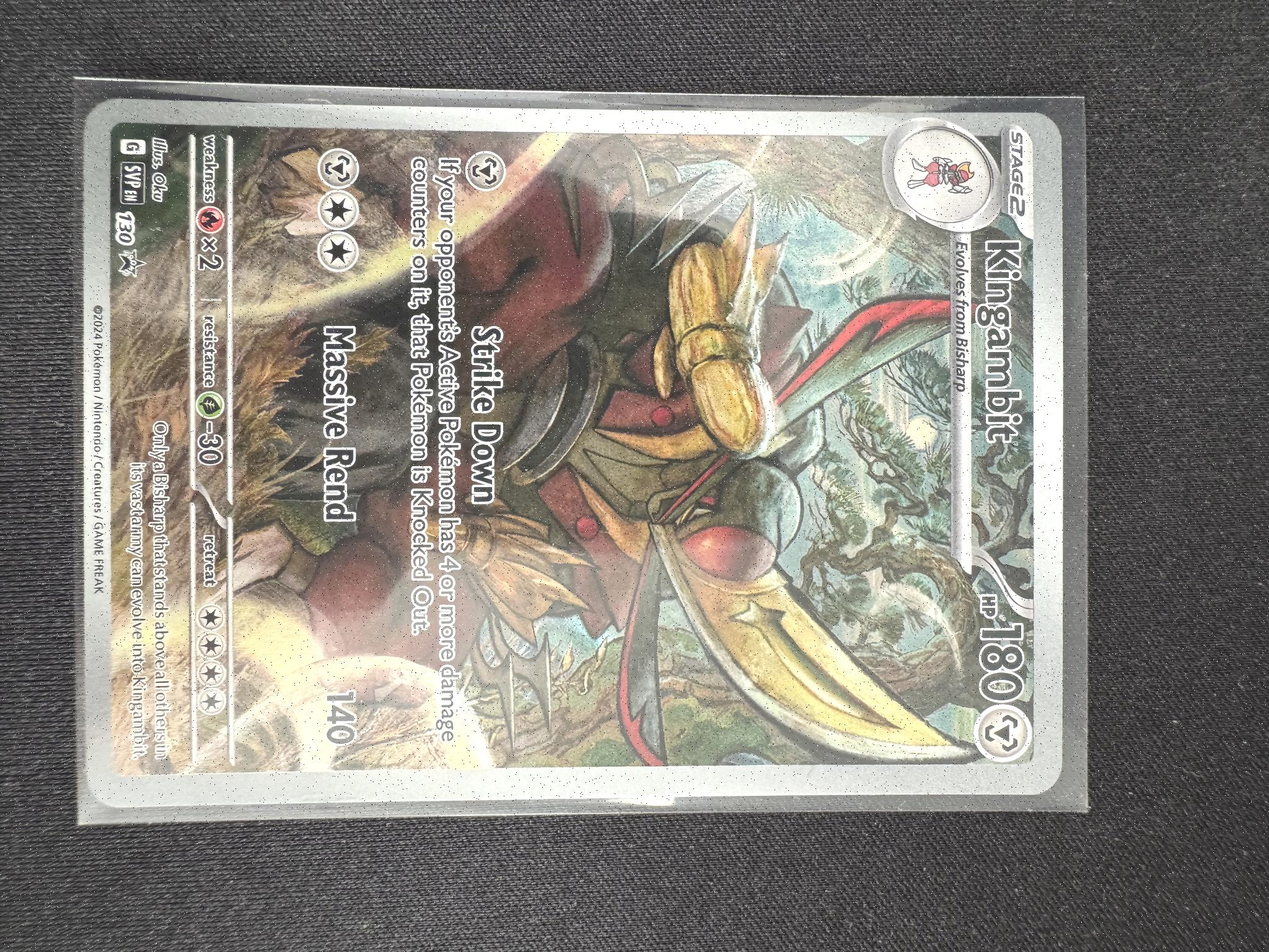card-2UtV: (83, 98, 1063, 808)
